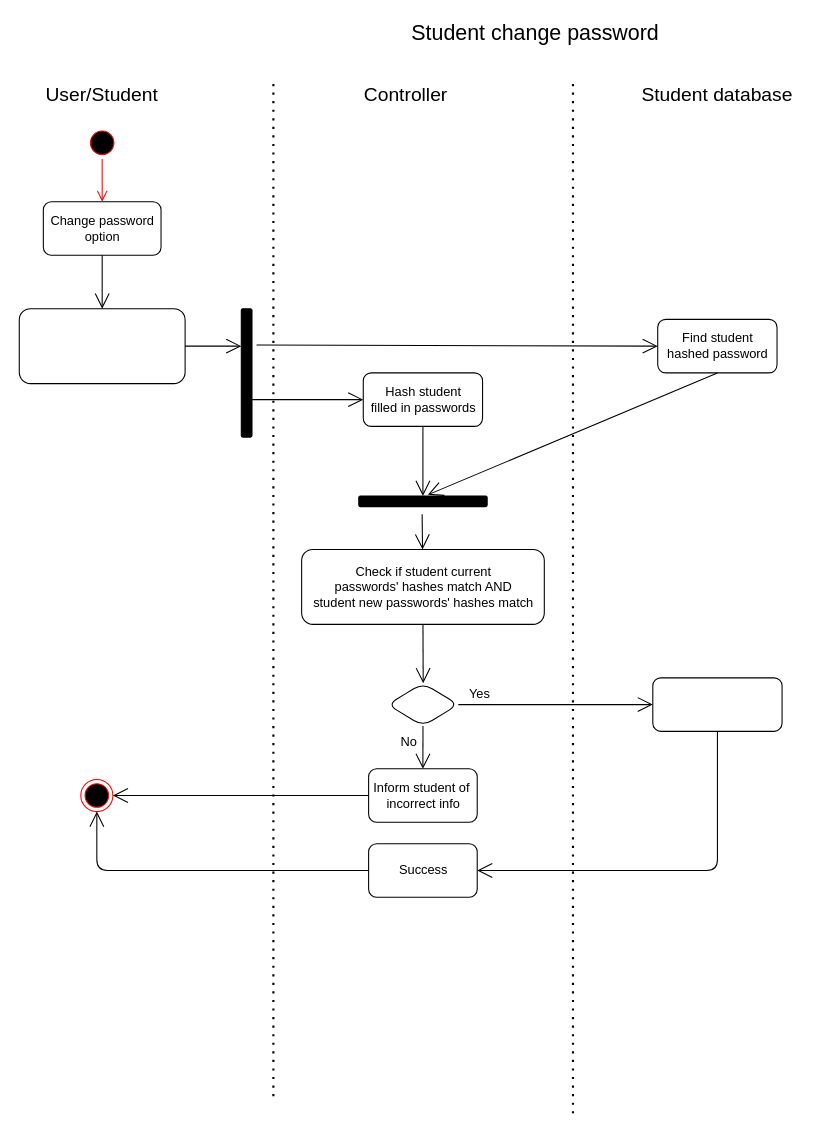
The diagram is 815 pixels wide and 1134 high, and some of its shapes have lost their labels. Each missing label, with the centre of its shape:
Fill in - current password - new password - confirm new password: the point at 101,346
Update student new hashed password: the point at 717,704
